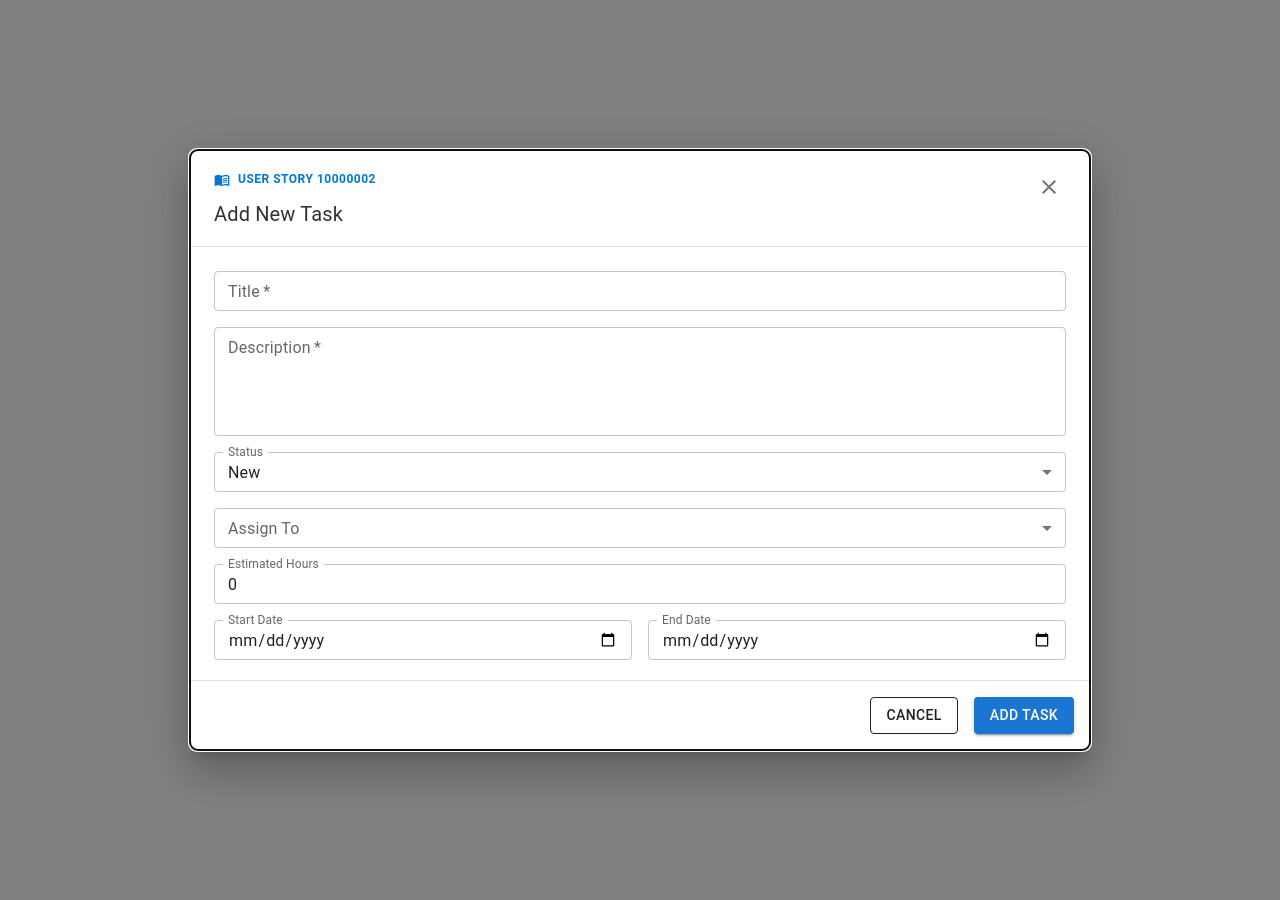
Test: TaskDetailsDialog › Add mode (task=null) › shows validation error when title is empty and save is clicked
Click the button "Add Task". click: {"x": 1024, "y": 715}
box: [974,697,1074,734]
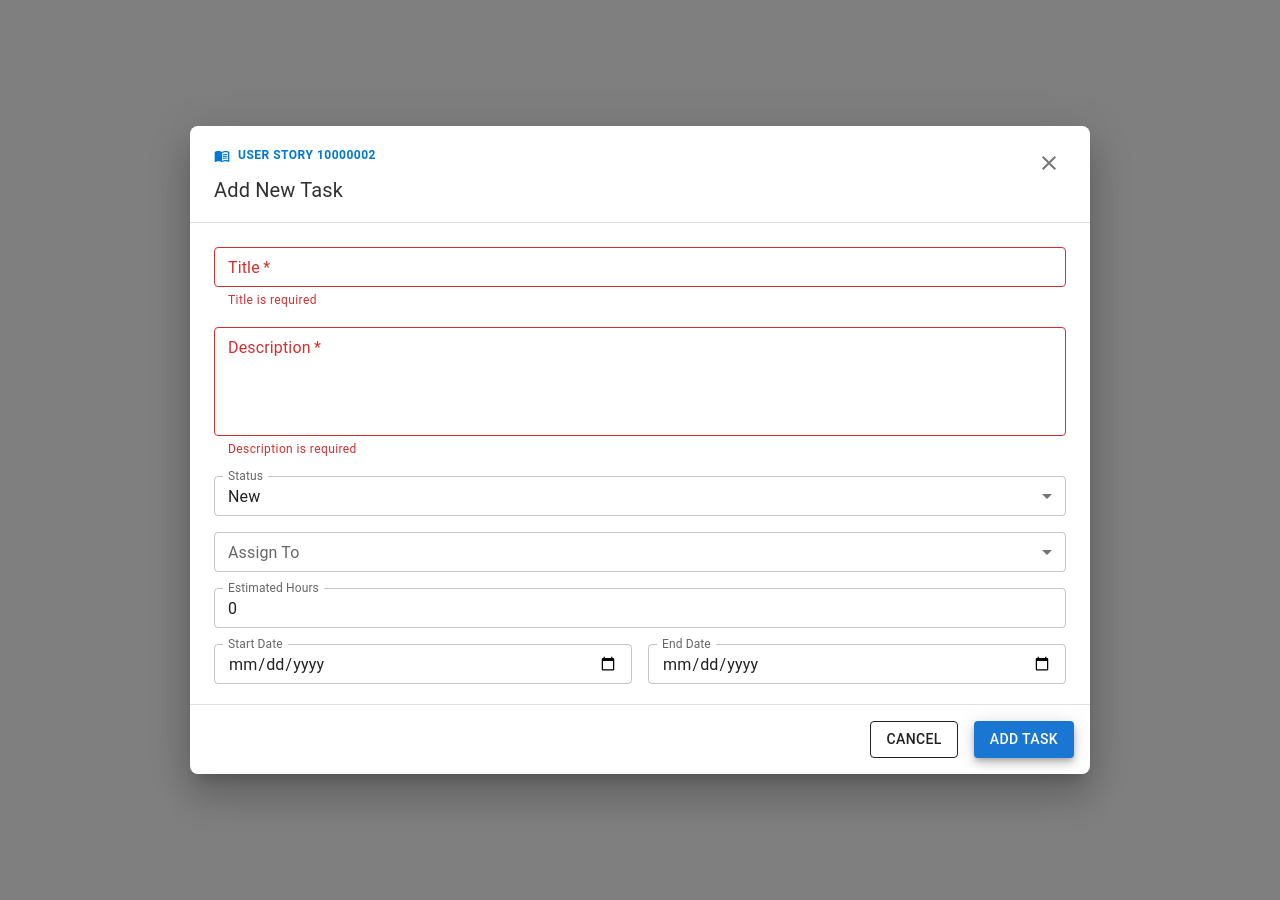
Expected: the text "Title is required" is shown, [228,293,317,307]
